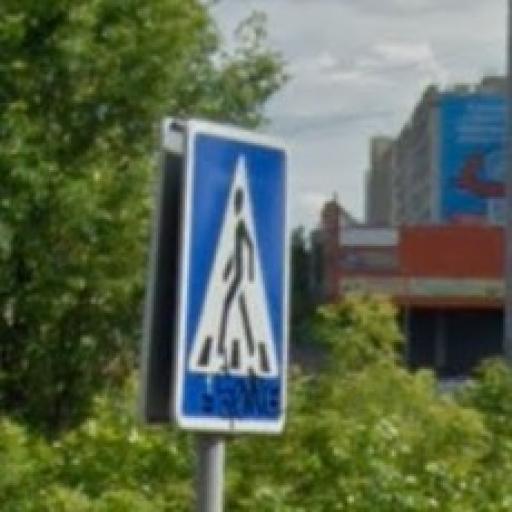traffic_sign: (164, 113, 300, 441)
